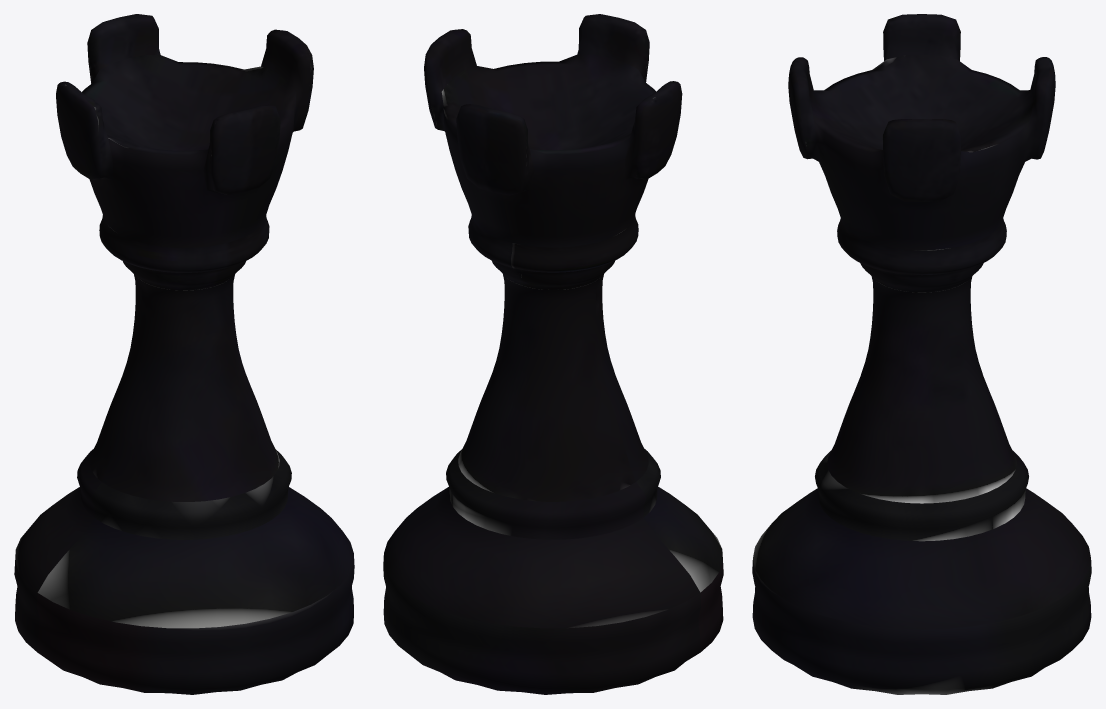
File: Torre_Negro.glb
The picture shows the model from 3 angles, left to right: view 1: azimuth 30°, elevation 25°; view 2: azimuth 150°, elevation 25°; view 3: azimuth 270°, elevation 25°; orthographic projection.
Parts seen in each view (by area): view 1: castillo_b.001; view 2: castillo_b.001; view 3: castillo_b.001.
Part boxes in pixels (left/top/right/bottom): castillo_b.001: left=14, top=14, right=354, bottom=694; castillo_b.001: left=383, top=14, right=723, bottom=694; castillo_b.001: left=752, top=14, right=1091, bottom=694.
Size of the model in its own units: 0.7819 by 1.43 by 0.7819.
1 material, 1 textured.
